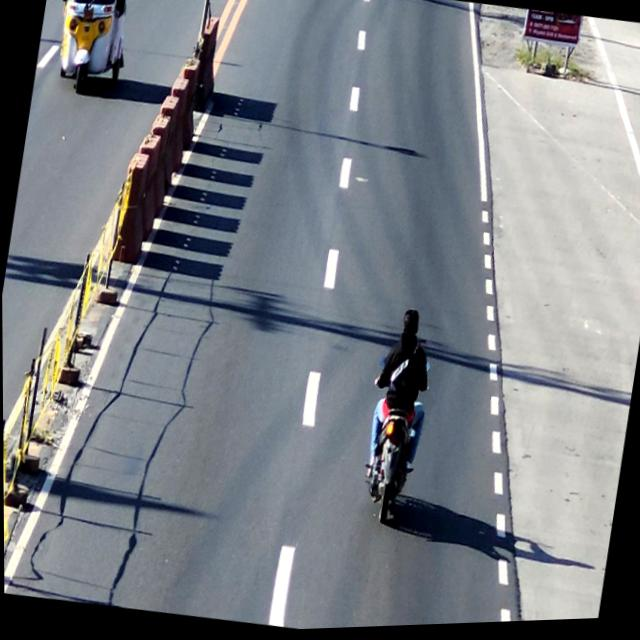Motorcycle: (356, 309, 444, 530)
